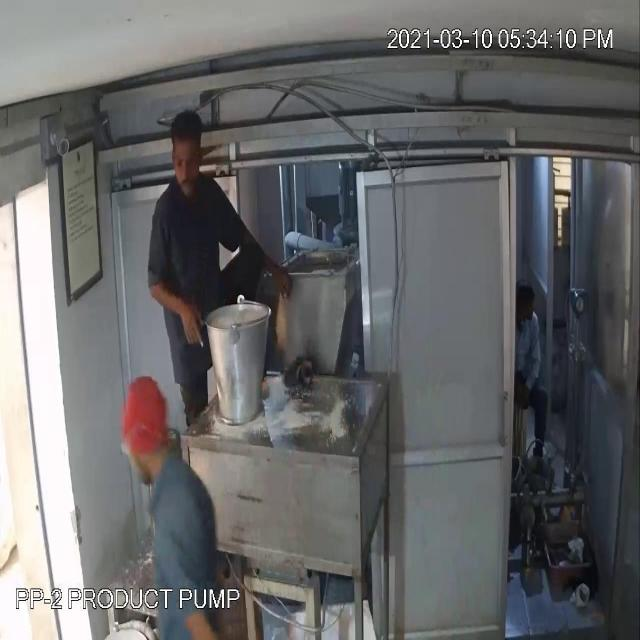No_Gloves: (143, 260, 211, 369)
